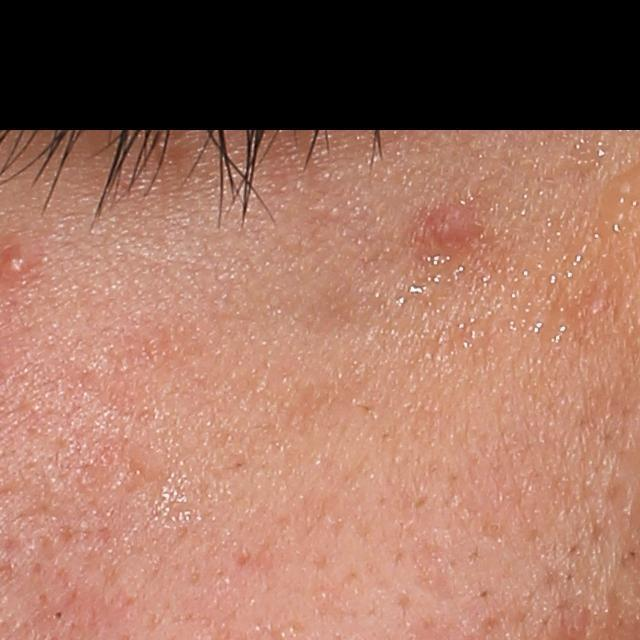comedo: (481, 516, 504, 539), (49, 608, 64, 621)
papule: (416, 209, 463, 251)
